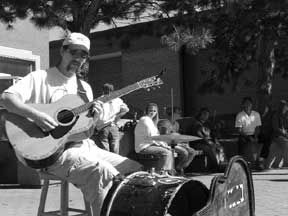person: (1, 34, 144, 216)
